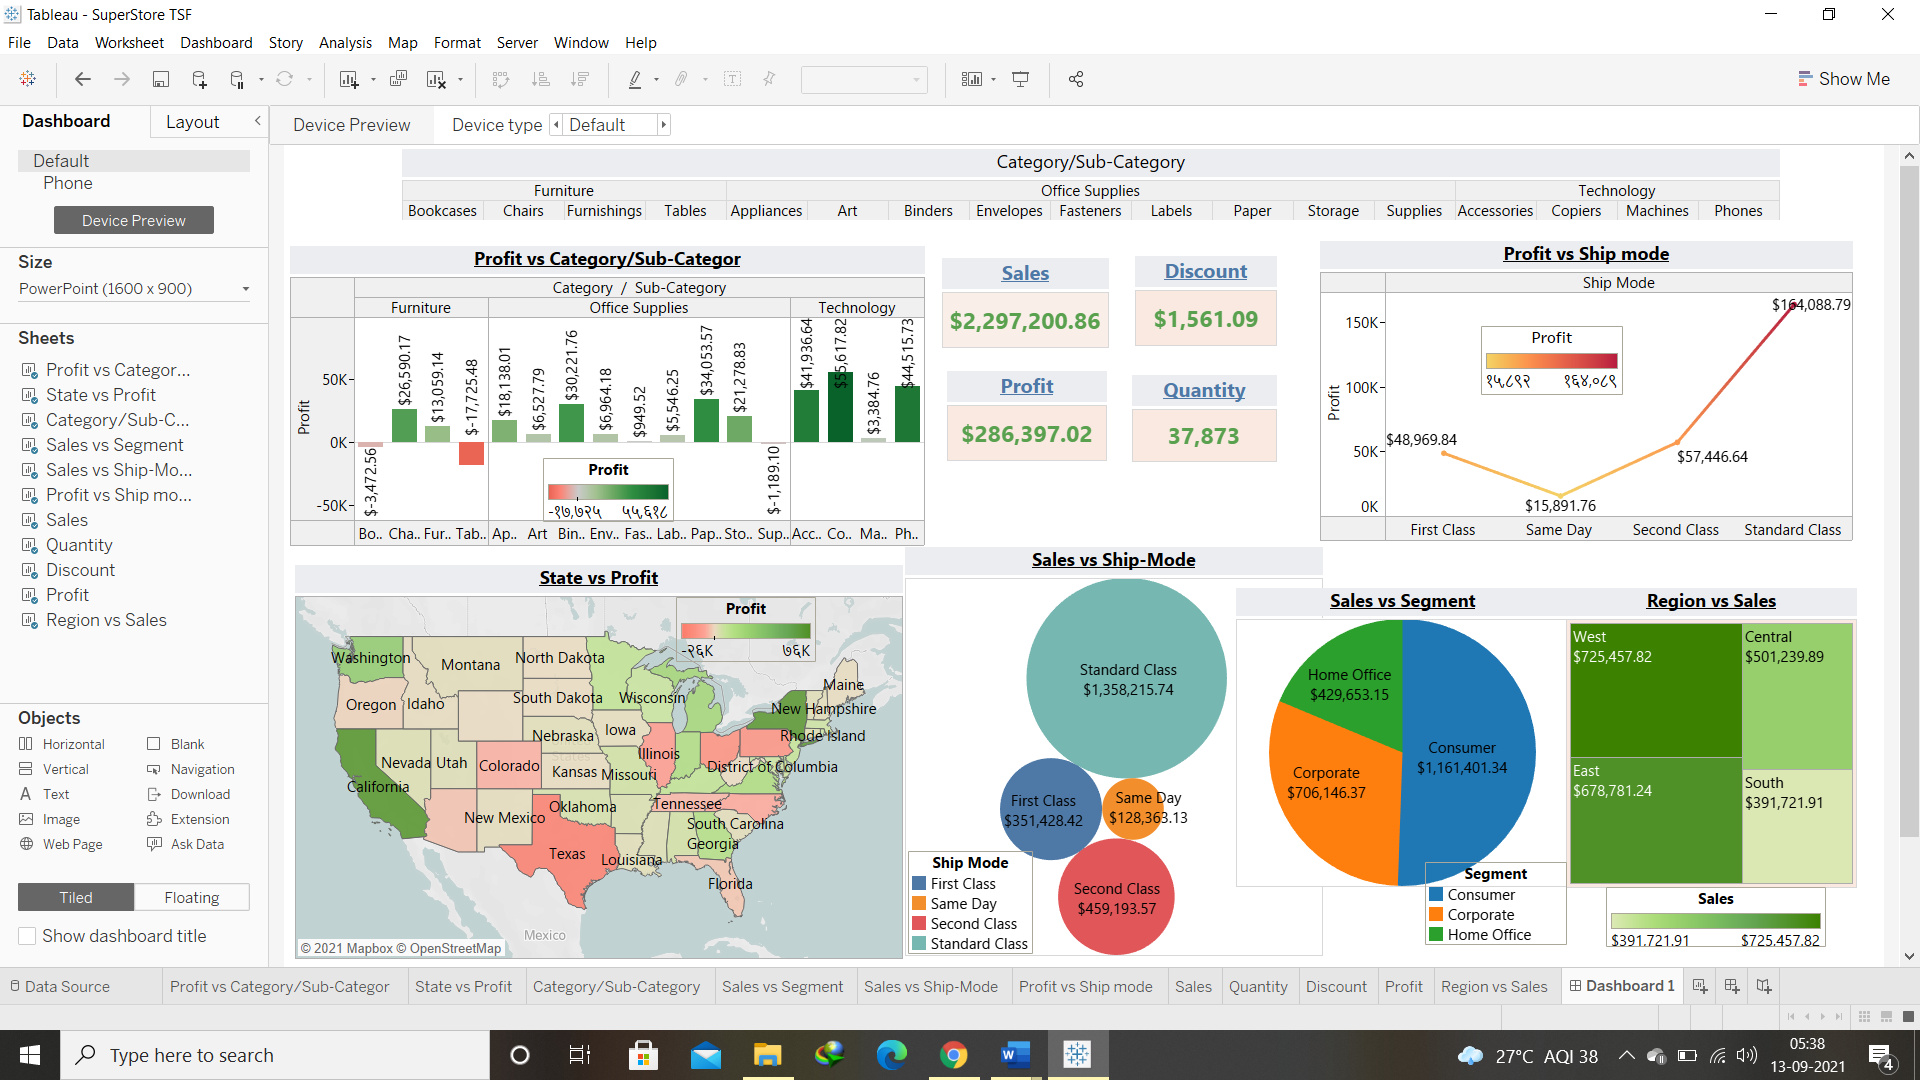

What the dashboard file says about the page in this screenshot:
{"tool":"tableau","page":{"name":"Dashboard 1","canvas":[1600,900],"ordinal":0},"visuals":[{"type":"worksheet","title":"Category/Sub-Category","mark":"Automatic","cols":["Category","Sub-Category"],"box":[118,4,1400,72]},{"type":"worksheet","title":"Profit vs Ship mode","mark":"Line","rows":["Profit"],"cols":["Ship Mode"],"box":[1036,96,533,300]},{"type":"worksheet","title":"Profit vs Category/Sub-Categor","mark":"Automatic","rows":["Profit"],"cols":["Category","Sub-Category"],"box":[6,101,635,300]},{"type":"worksheet","title":"Discount","mark":"Automatic","box":[851,111,147,100]},{"type":"worksheet","title":"Sales","mark":"Automatic","box":[658,113,167,98]},{"type":"legend","title":"Profit vs Ship mode","param":"[federated.0vfh99f15i6l7z15v7uag1nc8c84].[sum:Profit:qk]","box":[1197,181,142,69]},{"type":"worksheet","title":"Profit","mark":"Automatic","box":[663,226,170,107]},{"type":"worksheet","title":"Quantity","mark":"Automatic","box":[848,230,152,106]},{"type":"legend","title":"Profit vs Category/Sub-Categor","param":"[federated.0vfh99f15i6l7z15v7uag1nc8c84].[sum:Profit:qk]","box":[259,313,131,64]},{"type":"worksheet","title":"Sales vs Ship-Mode","mark":"Circle","box":[621,402,420,412]},{"type":"worksheet","title":"State vs Profit","mark":"Multipolygon","box":[11,420,608,394]},{"type":"worksheet","title":"Sales vs Segment","mark":"Pie","box":[952,443,334,366]},{"type":"worksheet","title":"Region vs Sales","mark":"Automatic","box":[1282,443,314,368]},{"type":"legend","title":"State vs Profit","param":"[federated.0vfh99f15i6l7z15v7uag1nc8c84].[sum:Profit:qk]","box":[392,452,140,65]},{"type":"legend","title":"Sales vs Ship-Mode","param":"[federated.0vfh99f15i6l7z15v7uag1nc8c84].[none:Ship Mode:nk]","box":[624,706,125,103]},{"type":"legend","title":"Sales vs Segment","param":"[federated.0vfh99f15i6l7z15v7uag1nc8c84].[none:Segment:nk]","box":[1141,717,142,83]},{"type":"legend","title":"Region vs Sales","param":"[federated.0vfh99f15i6l7z15v7uag1nc8c84].[sum:Sales:qk]","box":[1322,742,220,60]}]}

Visuals, with their boxes on the page's 1600x900 design canvas (x1, y1, x2, y2). These are canvas units, not pixel positions in the 1920x1080 screenshot, which may show the page scaled, cropped or inside an application window:
"Category/Sub-Category" worksheet: 118:4:1518:76
"Profit vs Ship mode" worksheet (Line marks): 1036:96:1569:396
"Profit vs Category/Sub-Categor" worksheet: 6:101:641:401
"Discount" worksheet: 851:111:998:211
"Sales" worksheet: 658:113:825:211
"Profit vs Ship mode" legend: 1197:181:1339:250
"Profit" worksheet: 663:226:833:333
"Quantity" worksheet: 848:230:1000:336
"Profit vs Category/Sub-Categor" legend: 259:313:390:377
"Sales vs Ship-Mode" worksheet (Circle marks): 621:402:1041:814
"State vs Profit" worksheet (Multipolygon marks): 11:420:619:814
"Sales vs Segment" worksheet (Pie marks): 952:443:1286:809
"Region vs Sales" worksheet: 1282:443:1596:811
"State vs Profit" legend: 392:452:532:517
"Sales vs Ship-Mode" legend: 624:706:749:809
"Sales vs Segment" legend: 1141:717:1283:800
"Region vs Sales" legend: 1322:742:1542:802
